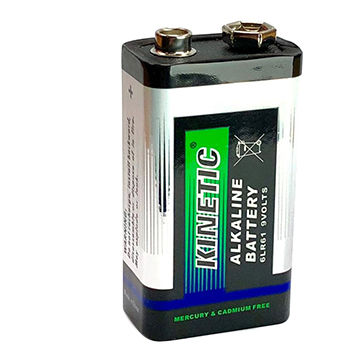9V: (118, 15, 310, 344)
